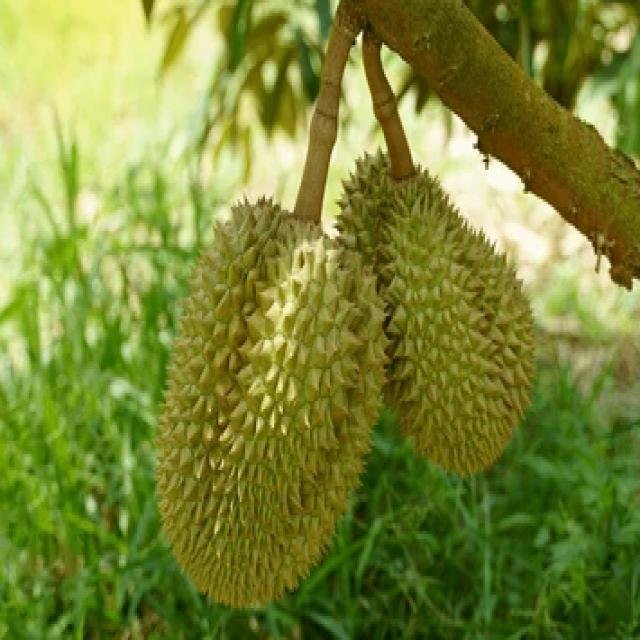immature: (158, 191, 388, 610), (340, 146, 539, 474)
